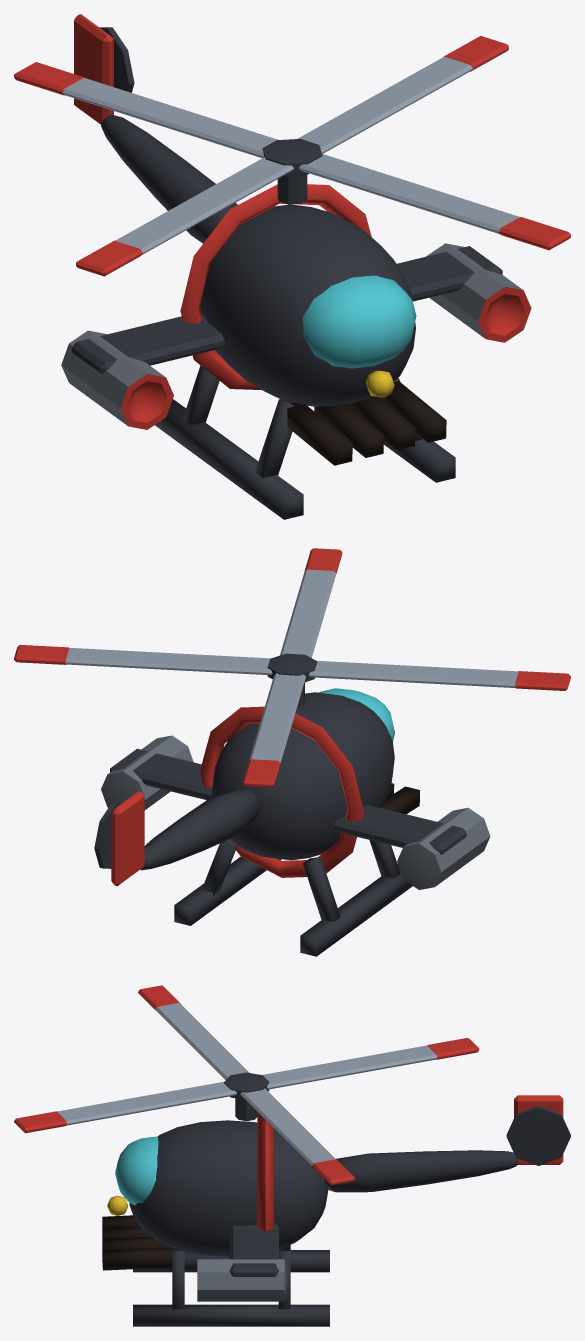
The picture shows the model from 3 angles, top to bottom: view 1: azimuth 30°, elevation 25°; view 2: azimuth 150°, elevation 25°; view 3: azimuth 270°, elevation 25°; orthographic projection. The views are drawn at different scales.
Visible parts, largest first — view 1: heli_0_base, heli_1_torreta; view 2: heli_0_base, heli_1_torreta; view 3: heli_0_base, heli_1_torreta.
Part boxes in pixels (x1,y1,x2,y2): heli_0_base: (61,14,531,519); heli_1_torreta: (14,36,570,276); heli_0_base: (94,688,490,956); heli_1_torreta: (14,548,570,787); heli_0_base: (102,1095,570,1326); heli_1_torreta: (14,985,479,1185).
Bounding box in the file's own units: 1.23 × 0.632 × 1.47.
